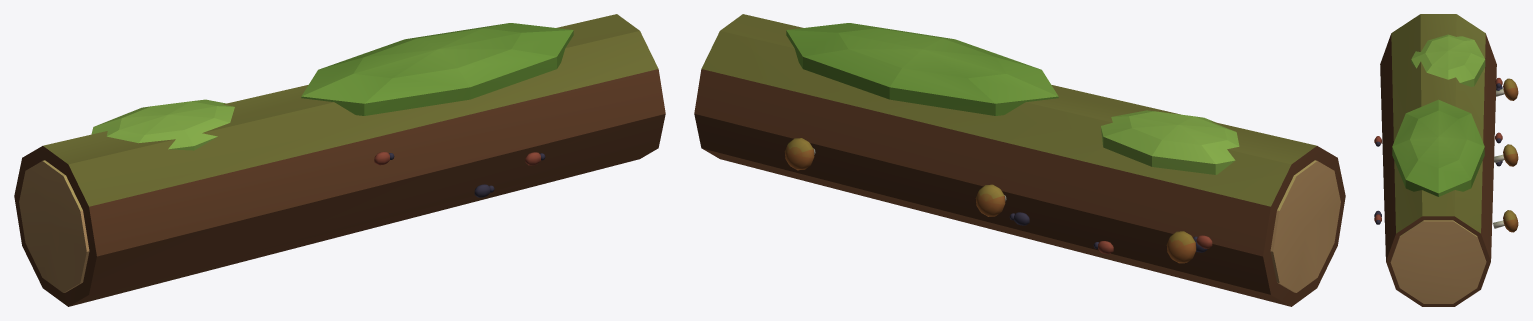
The model's file is insect_log.glb.
3 renders of one model, left to right at view 1: azimuth 30°, elevation 25°; view 2: azimuth 150°, elevation 25°; view 3: azimuth 270°, elevation 25°, orthographic. The views are drawn at different scales.
Visible parts, largest first — view 1: BugLog, Bugs; view 2: BugLog, Bugs; view 3: BugLog, Bugs.
Part boxes in pixels (x1=…): BugLog: x1=14, y1=14, x2=665, y2=306; Bugs: x1=374, y1=152, x2=545, y2=197; BugLog: x1=694, y1=14, x2=1345, y2=306; Bugs: x1=1009, y1=212, x2=1212, y2=254; BugLog: x1=1380, y1=14, x2=1518, y2=306; Bugs: x1=1374, y1=78, x2=1502, y2=224.
Size of what is drawn, in the model's own units: 2.42 by 0.6203 by 0.74.
